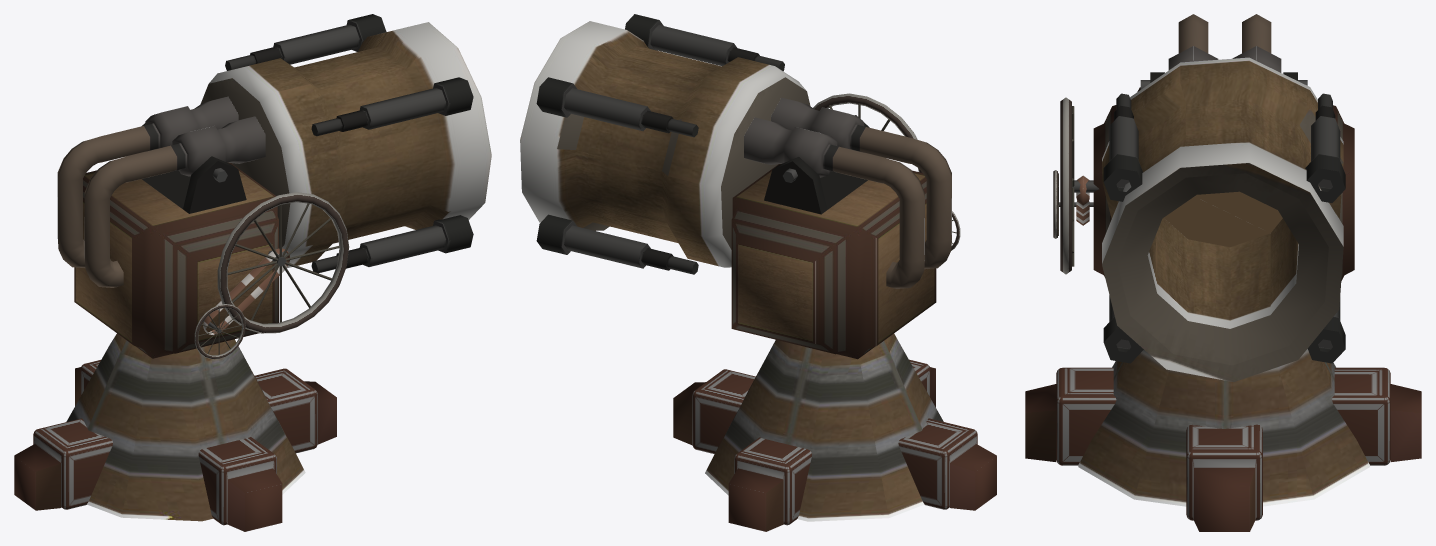
File: turretwithtextures.fbx
3 views of the same model, side by side, from view 1: azimuth 30°, elevation 25°; view 2: azimuth 150°, elevation 25°; view 3: azimuth 270°, elevation 25° (orthographic). The views are drawn at different scales.
Parts seen in each view (by area): view 1: canon, stand, box, pipe1, pipe2, Cube_3, Cube, Cube_1, wheel, lock1, lock4, lock2 (+3 smaller); view 2: canon, box, stand, pipe2, pipe1, Cube_3, Cube_2, Cube_1, lock3, lock2, Cylinder_3, lock1 (+2 smaller); view 3: canon, stand, Cube_1, Cube, Cube_2, box, lock2, lock1, wheel, pipe1, pipe2, lock3 (+2 smaller).
Boxes of the visible parts, <box> form: canon: <box>200,22,491,268</box>; stand: <box>66,333,305,521</box>; box: <box>74,162,278,358</box>; pipe1: <box>84,116,265,287</box>; pipe2: <box>57,96,238,267</box>; Cube_3: <box>14,418,112,510</box>; Cube: <box>198,437,282,531</box>; Cube_1: <box>255,368,336,453</box>; wheel: <box>217,192,349,333</box>; lock1: <box>311,77,473,136</box>; lock4: <box>311,215,473,273</box>; lock2: <box>225,14,386,70</box>; canon: <box>520,21,810,267</box>; box: <box>731,164,936,359</box>; stand: <box>705,333,943,521</box>; pipe2: <box>744,117,924,288</box>; pipe1: <box>771,97,951,269</box>; Cube_3: <box>898,418,996,510</box>; Cube_2: <box>728,437,811,531</box>; Cube_1: <box>673,369,755,453</box>; lock3: <box>536,214,698,274</box>; lock2: <box>536,77,698,137</box>; Cylinder_3: <box>764,115,869,214</box>; lock1: <box>625,14,784,71</box>; canon: <box>1102,57,1343,382</box>; stand: <box>1078,349,1369,506</box>; Cube_1: <box>1186,424,1262,531</box>; Cube: <box>1025,367,1116,465</box>; Cube_2: <box>1332,367,1421,465</box>; box: <box>1093,87,1354,280</box>; lock2: <box>1305,93,1345,202</box>; lock1: <box>1103,93,1142,201</box>; wheel: <box>1060,97,1071,274</box>; pipe1: <box>1168,14,1218,70</box>; pipe2: <box>1232,14,1281,72</box>; lock3: <box>1307,297,1345,363</box>.
Bounding box in the file's own units: 364 × 315 × 258.
11 materials, 11 textured.
